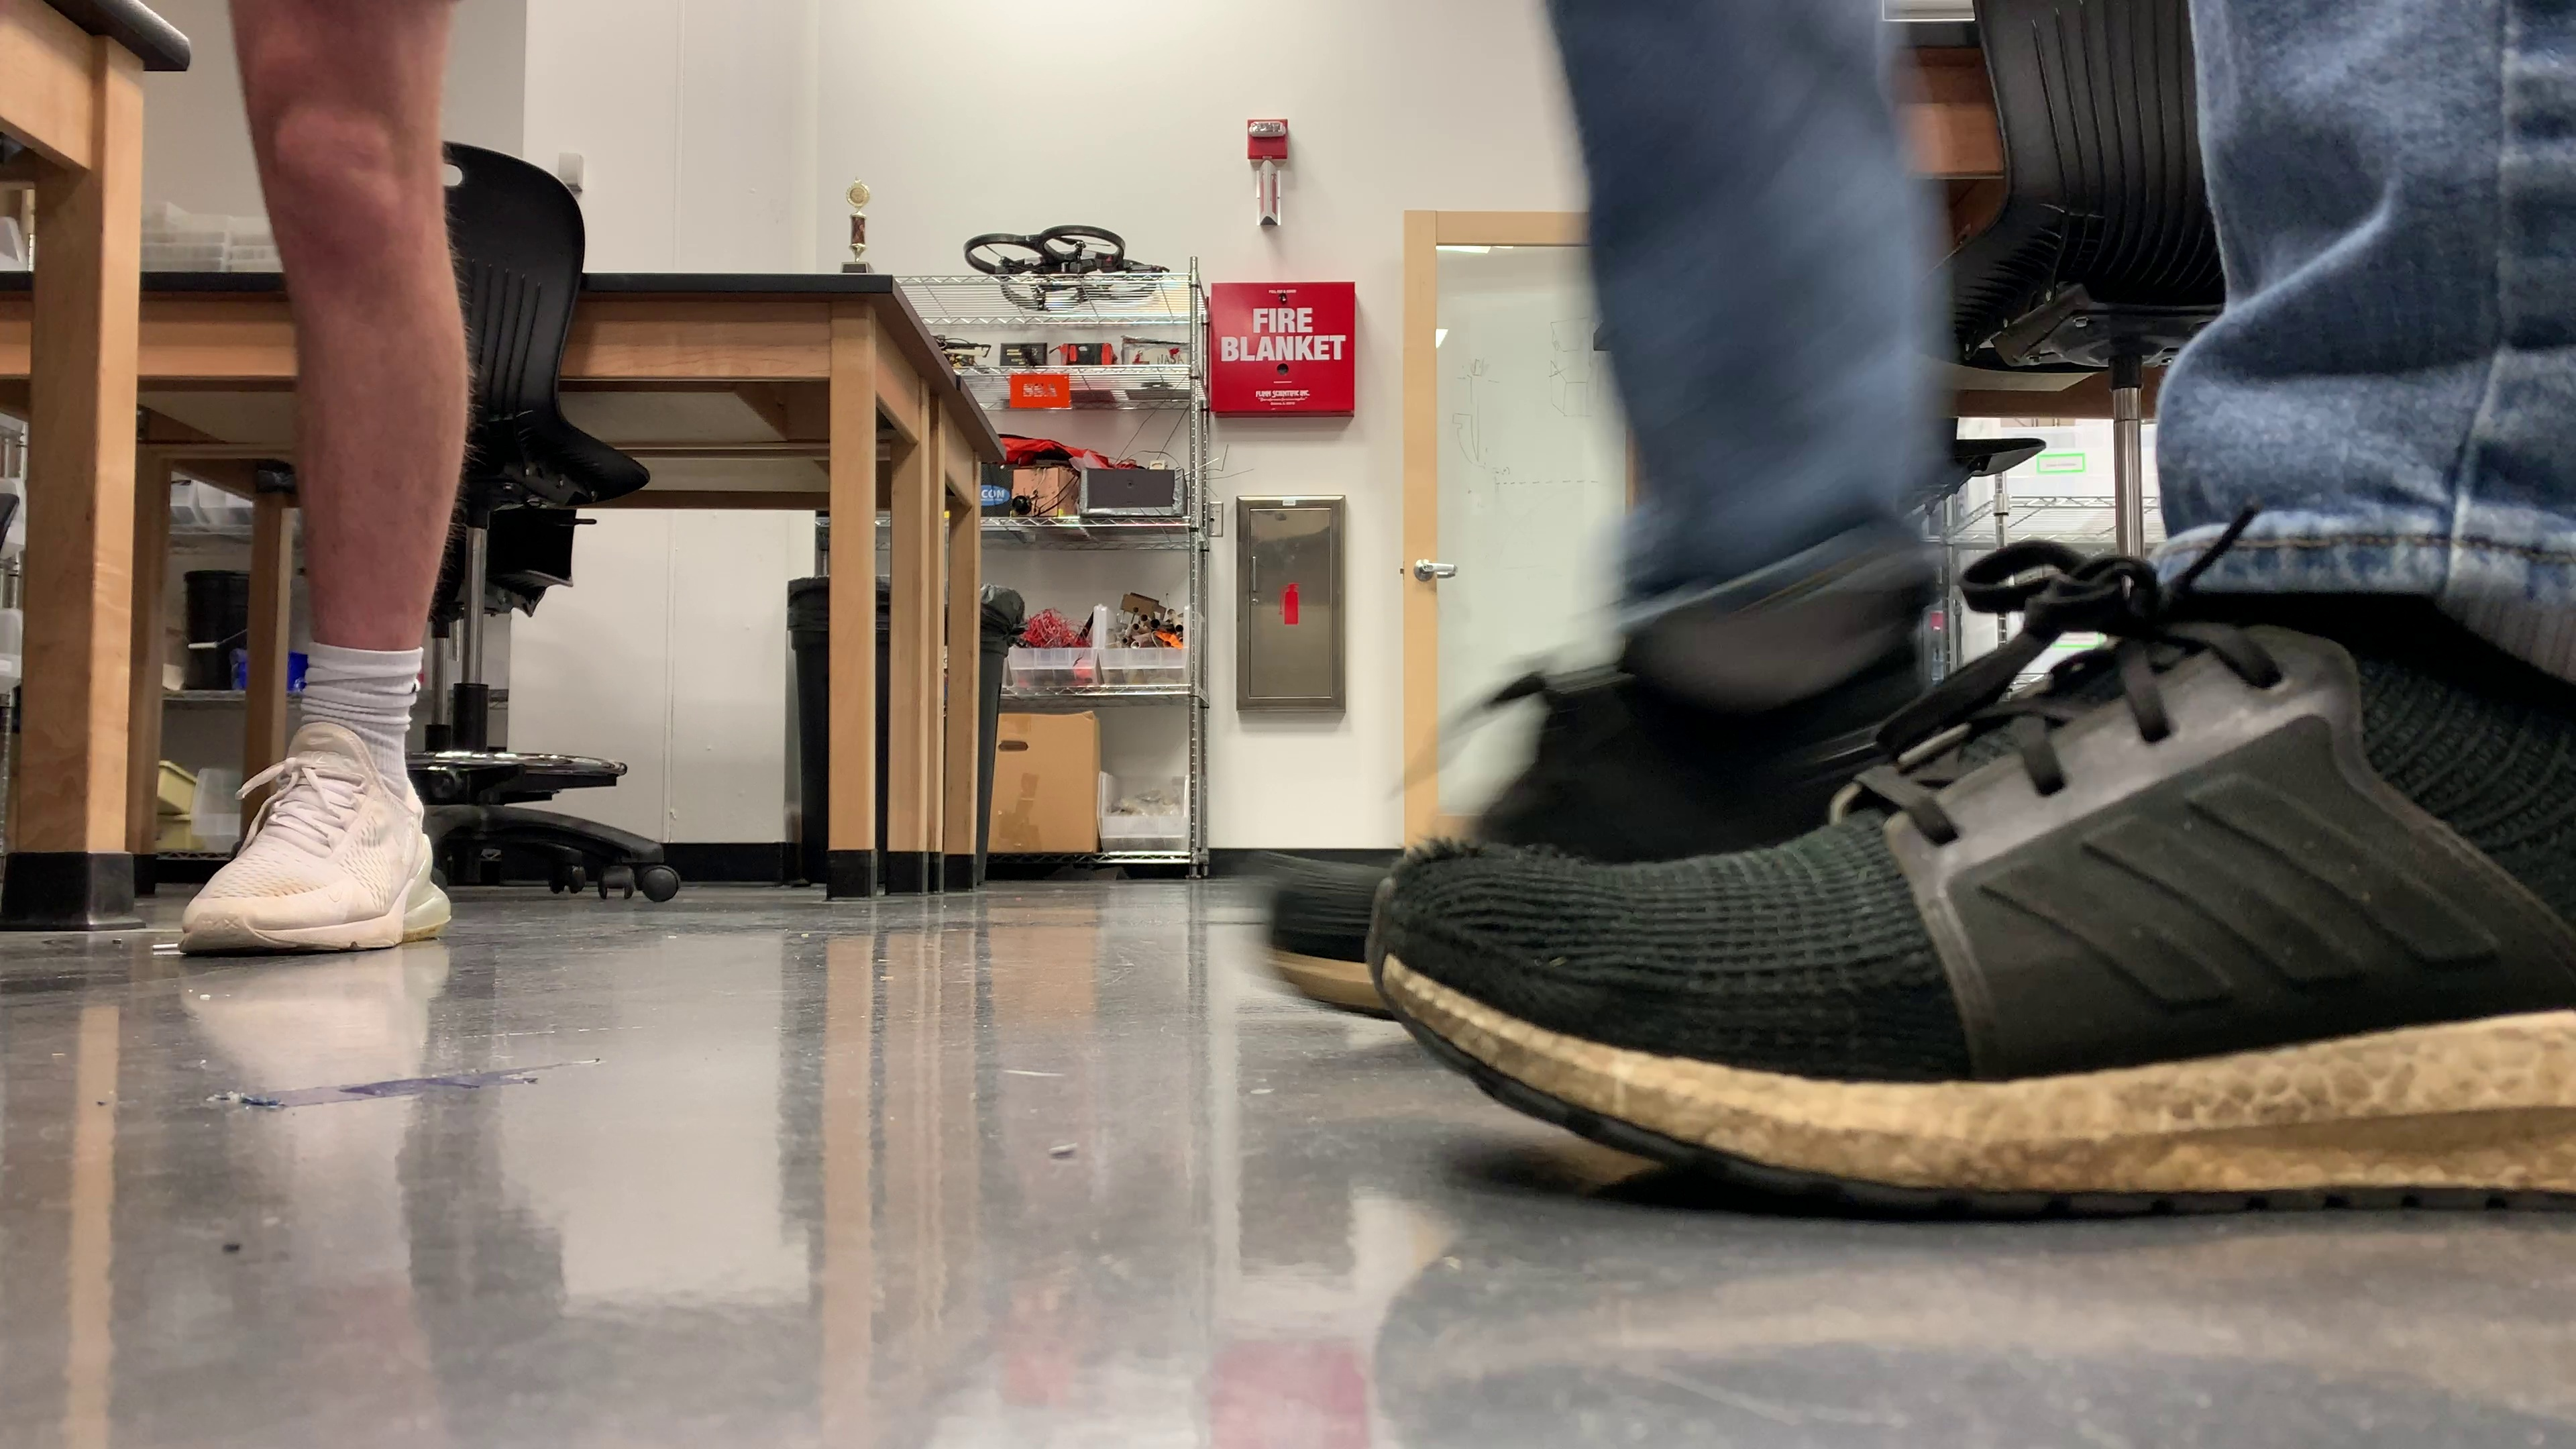shoe: (1368, 586, 2576, 1215), (182, 722, 451, 952)
